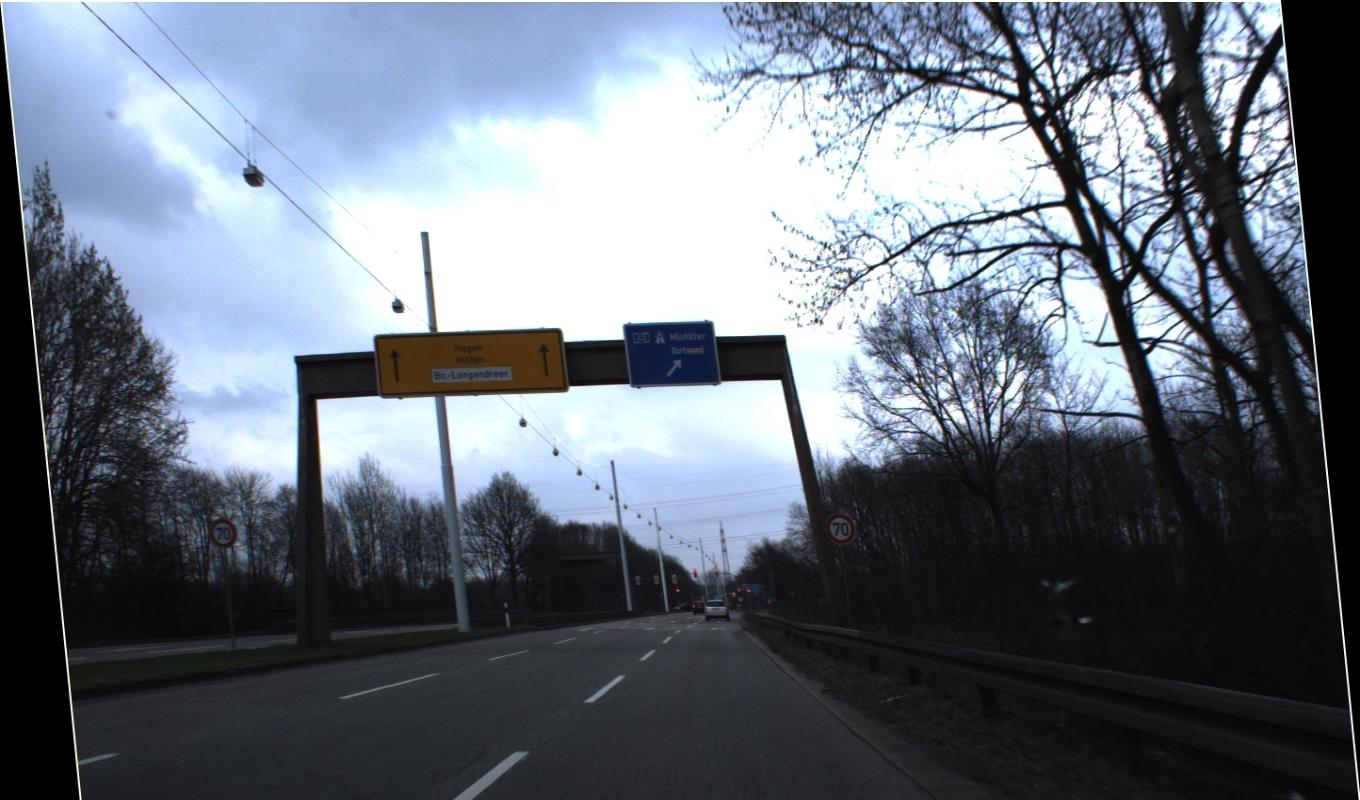speed limit 70: (205, 511, 857, 548)
